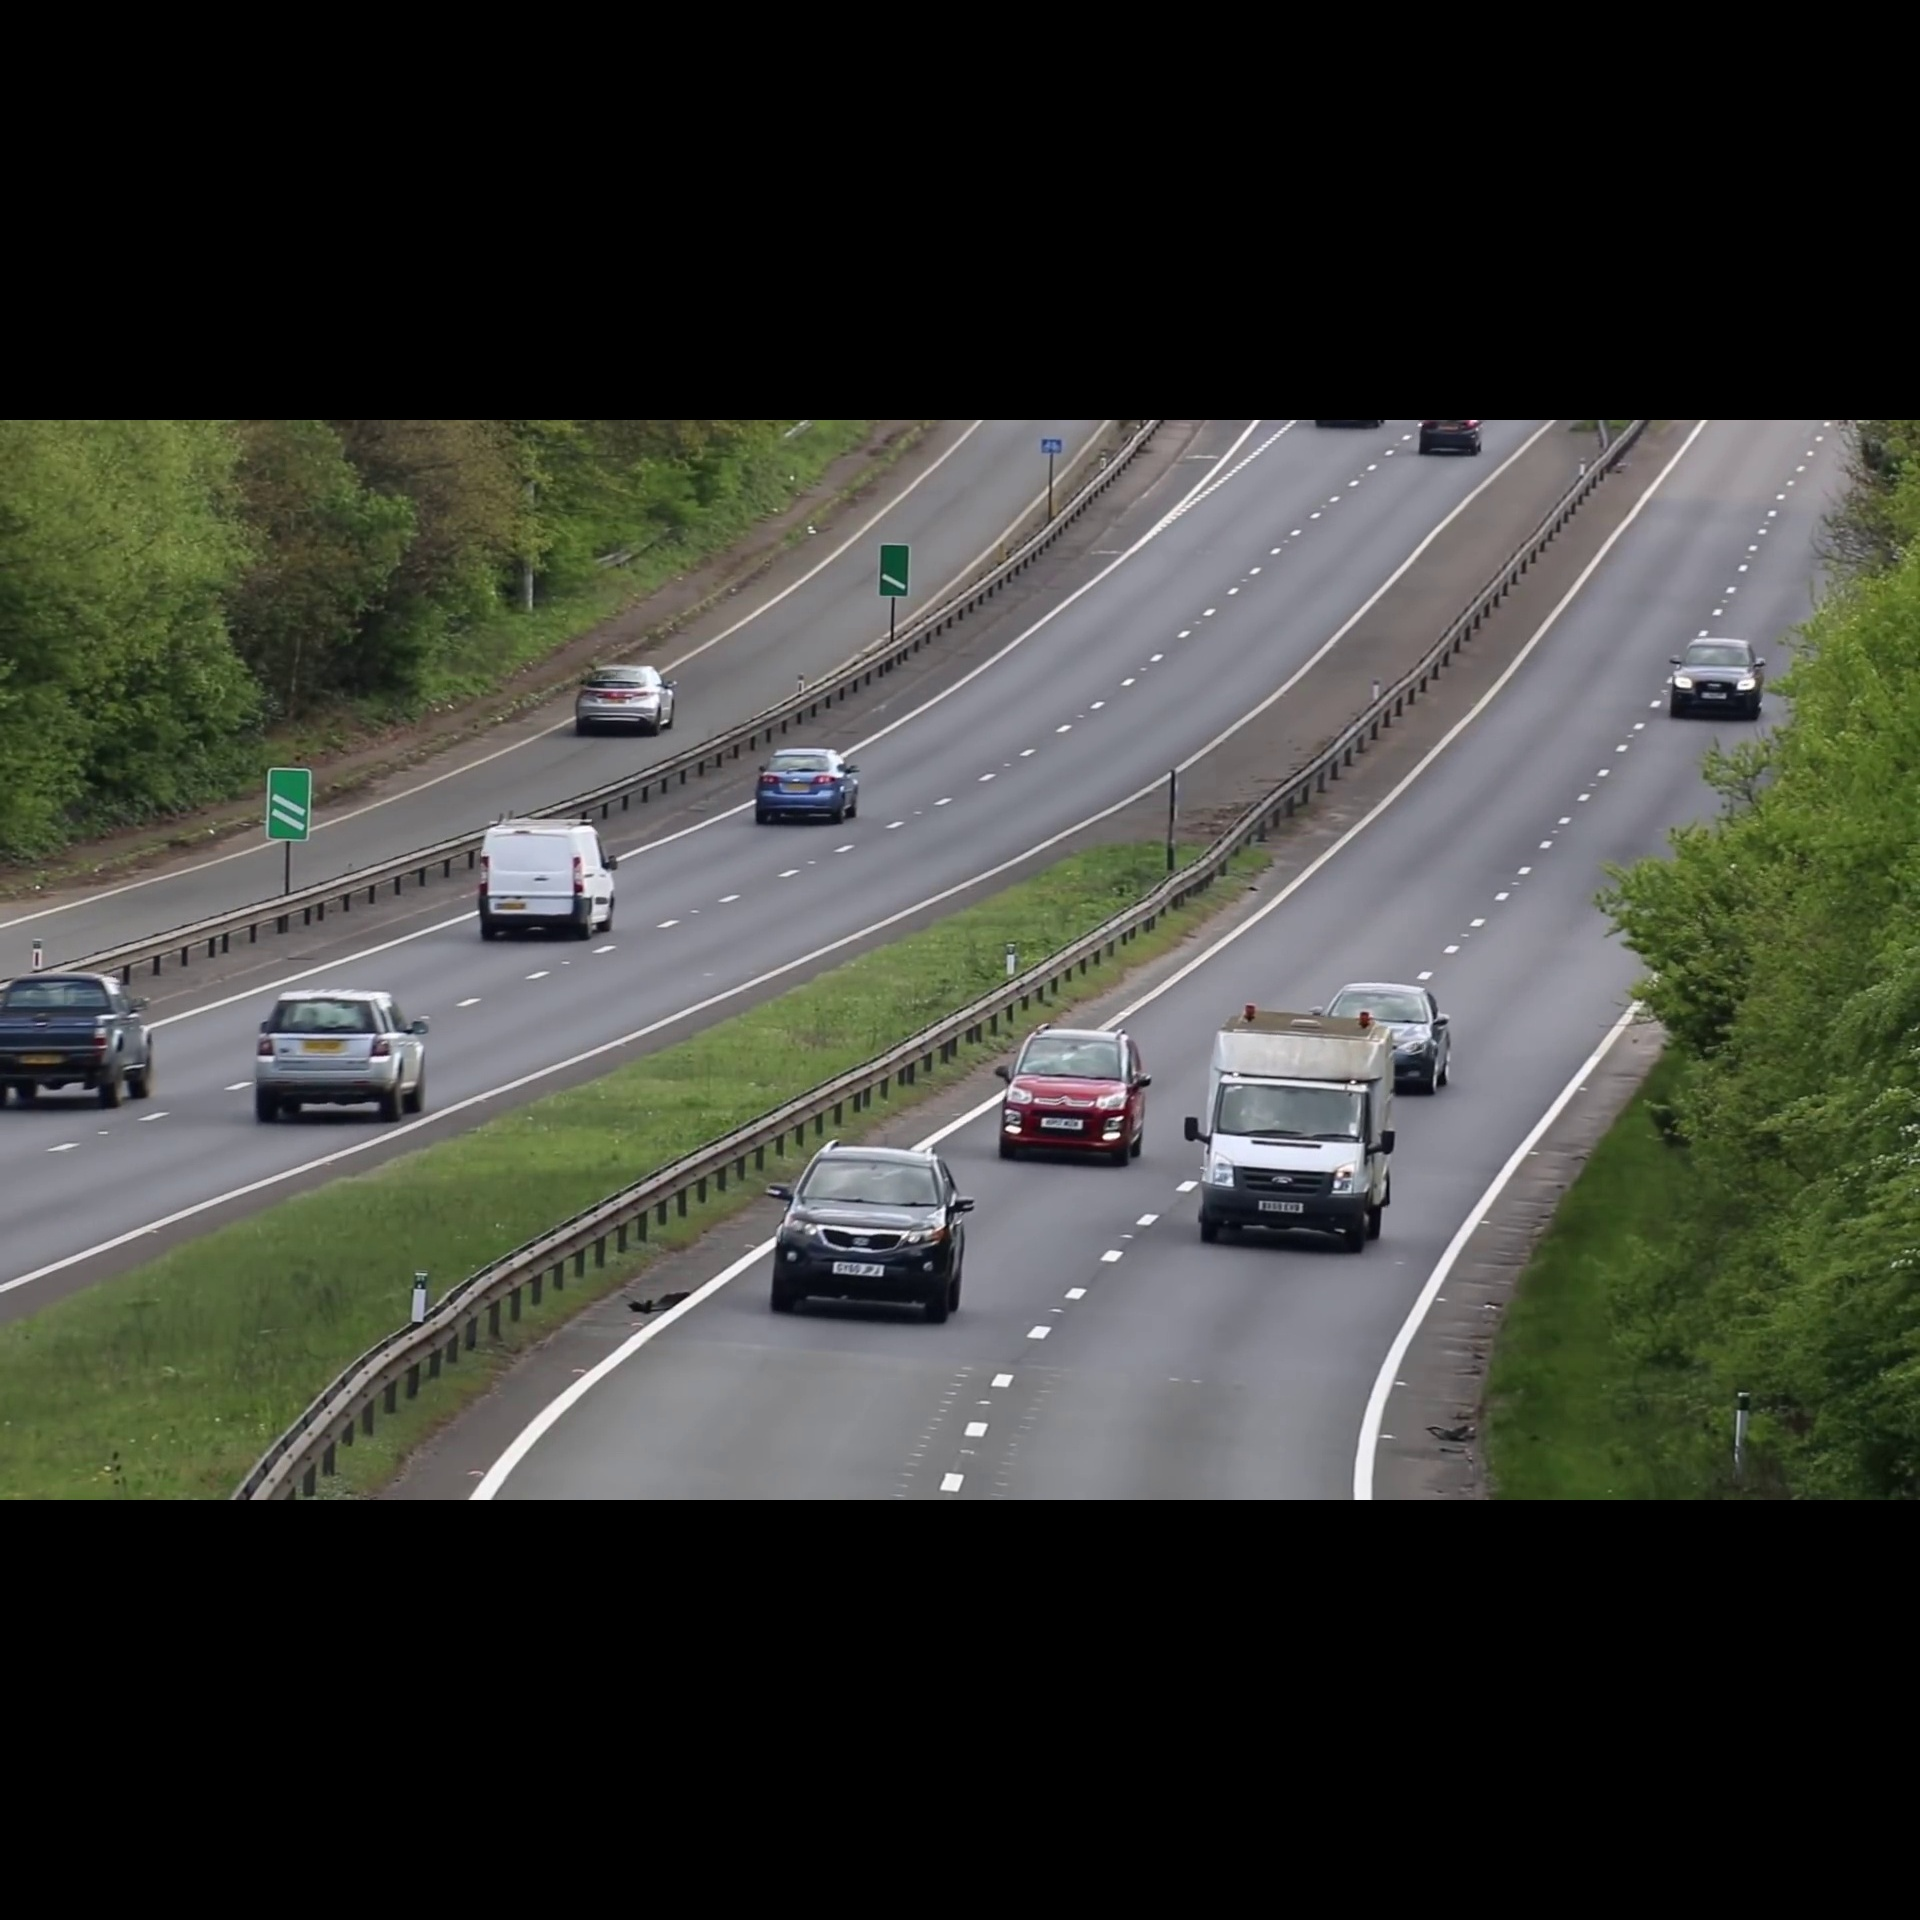vehicle: (1190, 1027, 1393, 1261), (767, 1145, 962, 1329), (246, 979, 431, 1131), (2, 965, 165, 1116), (995, 1022, 1150, 1176), (469, 812, 622, 942), (1331, 976, 1465, 1060), (571, 652, 684, 744), (749, 744, 862, 823), (1665, 635, 1765, 723)
